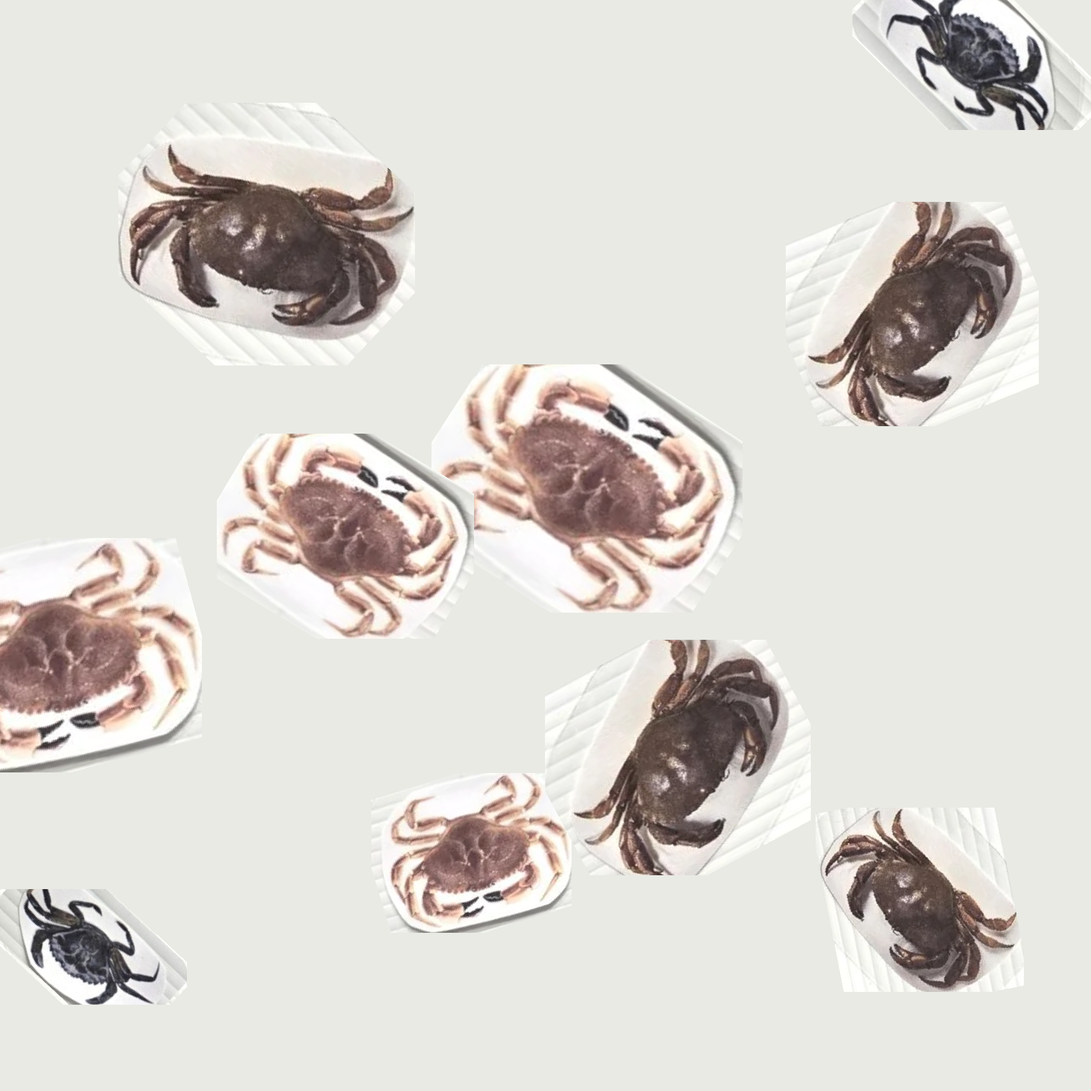evil: (859, 0, 1091, 119), (28, 882, 166, 1025)
normal: (768, 185, 1067, 413), (455, 361, 712, 598), (821, 816, 1039, 1034), (147, 147, 398, 332), (0, 541, 180, 768), (242, 427, 455, 617), (588, 655, 778, 840), (342, 764, 550, 911)
